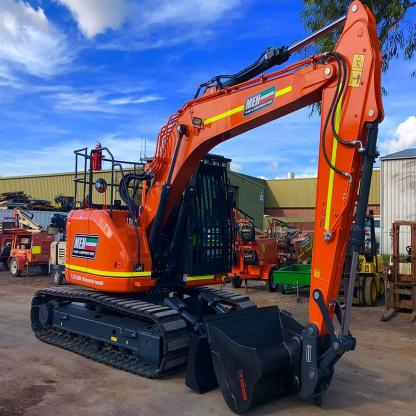excavator: (25, 8, 399, 404)
